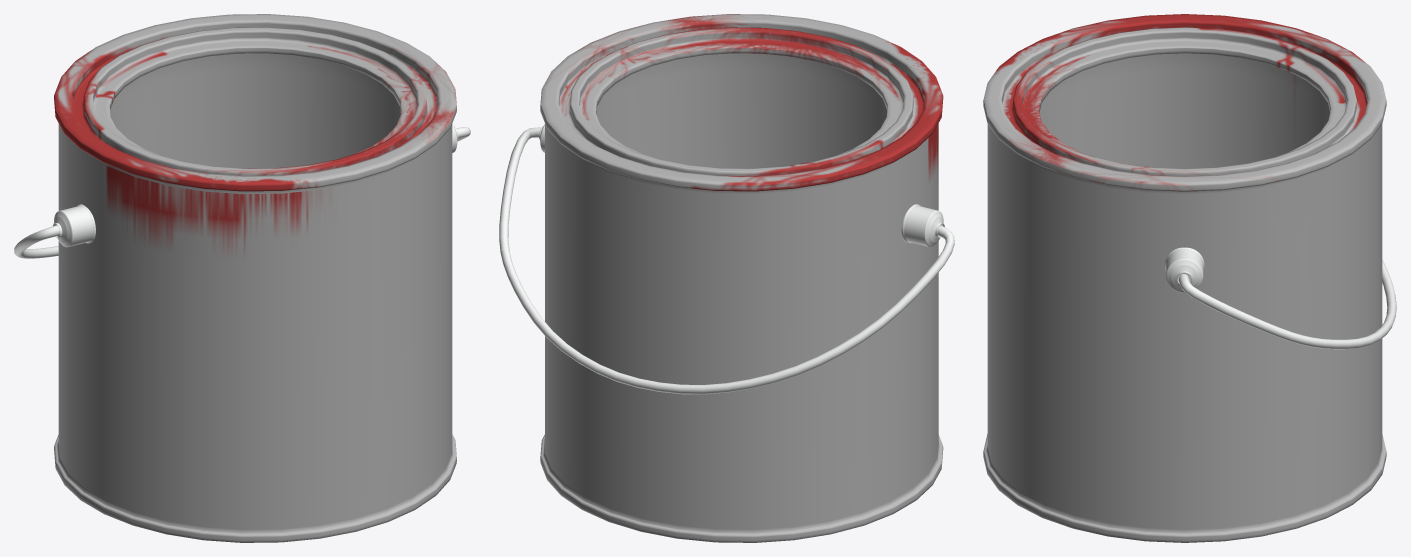
The model's file is bucket.glb.
The picture shows the model from 3 angles, left to right: view 1: azimuth 30°, elevation 25°; view 2: azimuth 150°, elevation 25°; view 3: azimuth 270°, elevation 25°; orthographic projection.
Visible parts, largest first — view 1: Bucket_low; view 2: Bucket_low; view 3: Bucket_low.
Part boxes in pixels (bbox=[...]): Bucket_low: bbox=[14, 14, 470, 542]; Bucket_low: bbox=[499, 14, 954, 542]; Bucket_low: bbox=[983, 14, 1396, 542].
Size of the model in its own units: 1.2 by 0.9421 by 0.9814.
Materials: 3 (3 with a texture image).
